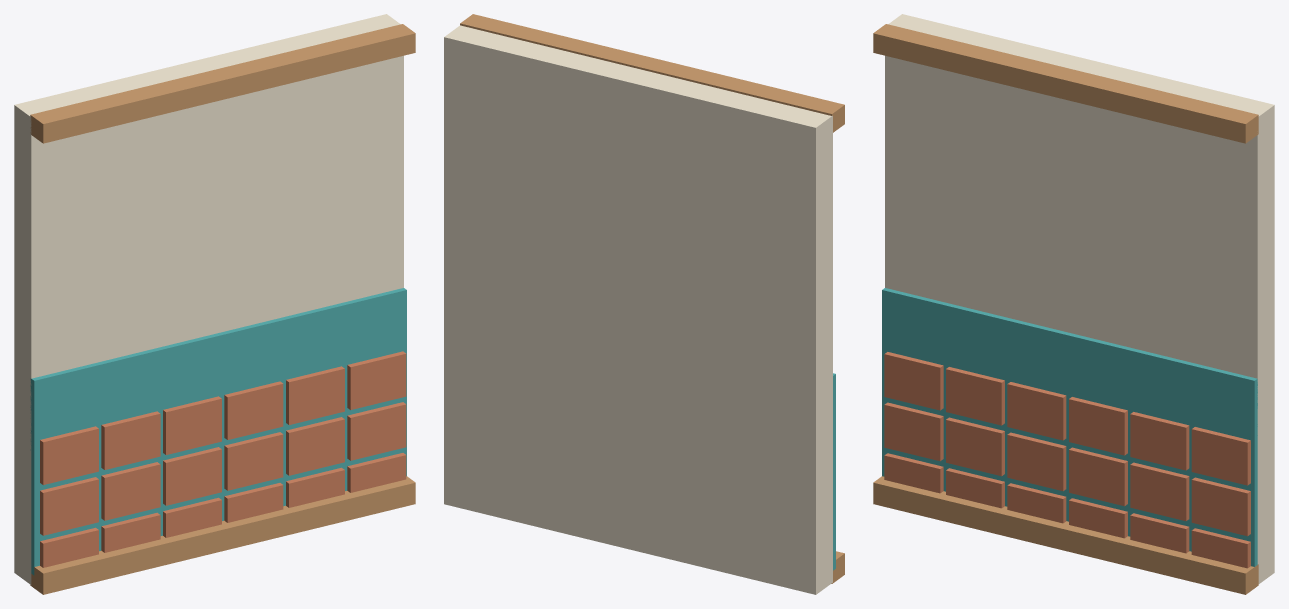
Rendered from wall_brick.glb.
The picture shows the model from 3 angles, left to right: view 1: azimuth 30°, elevation 25°; view 2: azimuth 150°, elevation 25°; view 3: azimuth 330°, elevation 25°; orthographic projection.
Parts seen in each view (by area): view 1: wall_brick; view 2: wall_brick; view 3: wall_brick.
Part boxes in pixels (bbox=[...]): wall_brick: bbox=[14, 14, 415, 594]; wall_brick: bbox=[444, 14, 844, 594]; wall_brick: bbox=[873, 14, 1274, 594].
Bounding box in the file's own units: 2 × 2.42 × 0.27.
